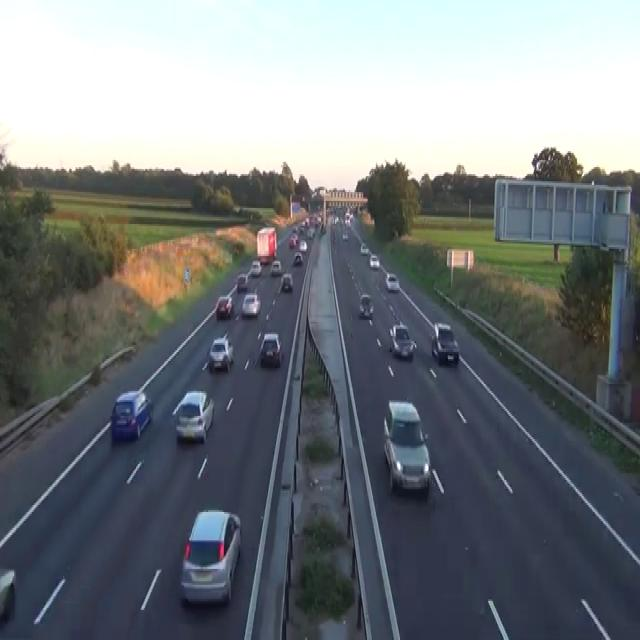Car: (179, 508, 241, 606), (382, 398, 430, 496), (171, 389, 214, 443), (110, 389, 153, 441), (430, 322, 459, 364), (389, 324, 416, 359), (207, 336, 233, 372), (0, 567, 16, 621), (259, 332, 282, 367), (241, 292, 260, 316), (215, 295, 232, 318), (359, 294, 373, 318), (385, 272, 399, 292), (281, 272, 293, 292), (236, 272, 248, 292), (250, 260, 262, 276), (270, 260, 282, 276), (369, 254, 379, 268), (288, 233, 298, 247), (293, 251, 303, 265), (360, 242, 369, 254), (344, 212, 353, 222), (306, 228, 315, 238), (299, 240, 307, 251), (320, 222, 326, 235), (344, 217, 351, 227), (299, 224, 304, 235), (342, 231, 348, 240), (291, 224, 297, 233), (334, 215, 339, 224), (304, 217, 309, 226), (332, 233, 336, 242)
Truck: (256, 226, 277, 263)
